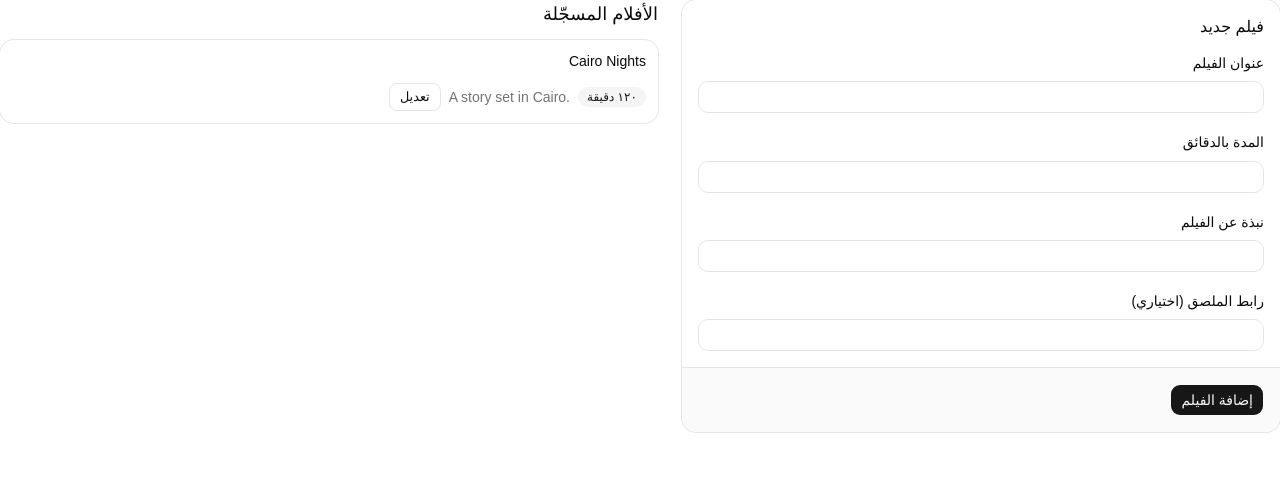
FilmAdmin › shows a server error and preserves the entered values
This screenshot has width=1280, height=504.
Type "New Film" into the field labelled "عنوان الفيلم" at (981, 97), box [698,81,1264,113]
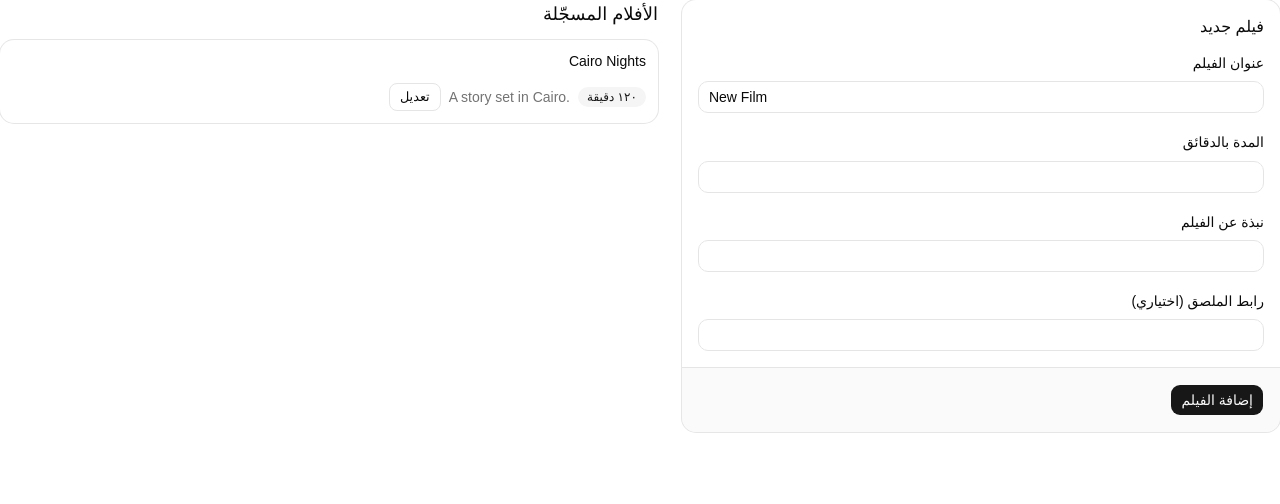
Type "95" into the number field labelled "المدة بالدقائق" at (981, 176), box [698,160,1264,192]
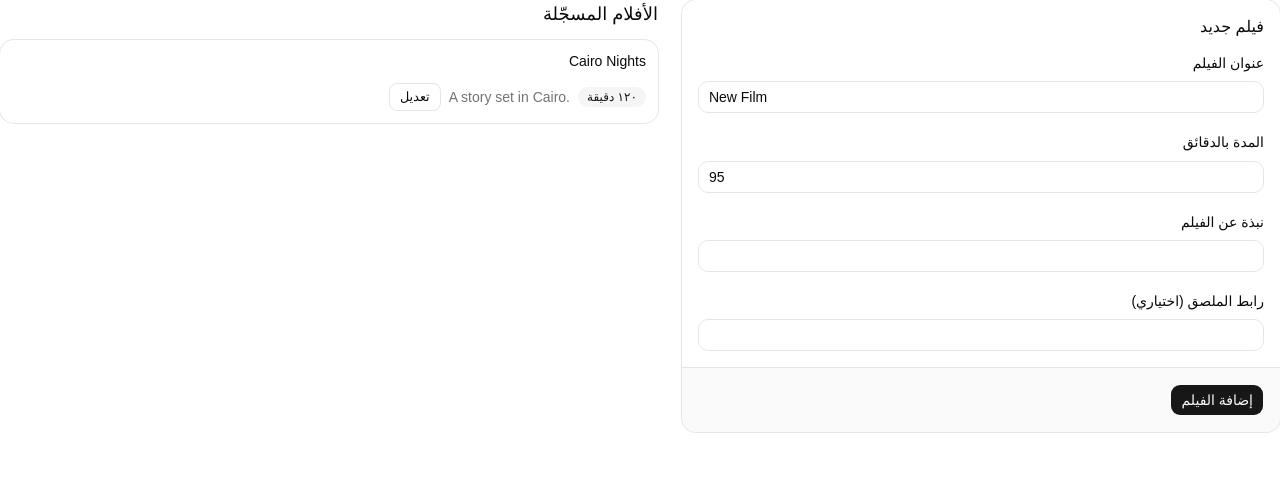
Type "Synopsis" into the field labelled "نبذة عن الفيلم" at (981, 256), box [698,240,1264,272]
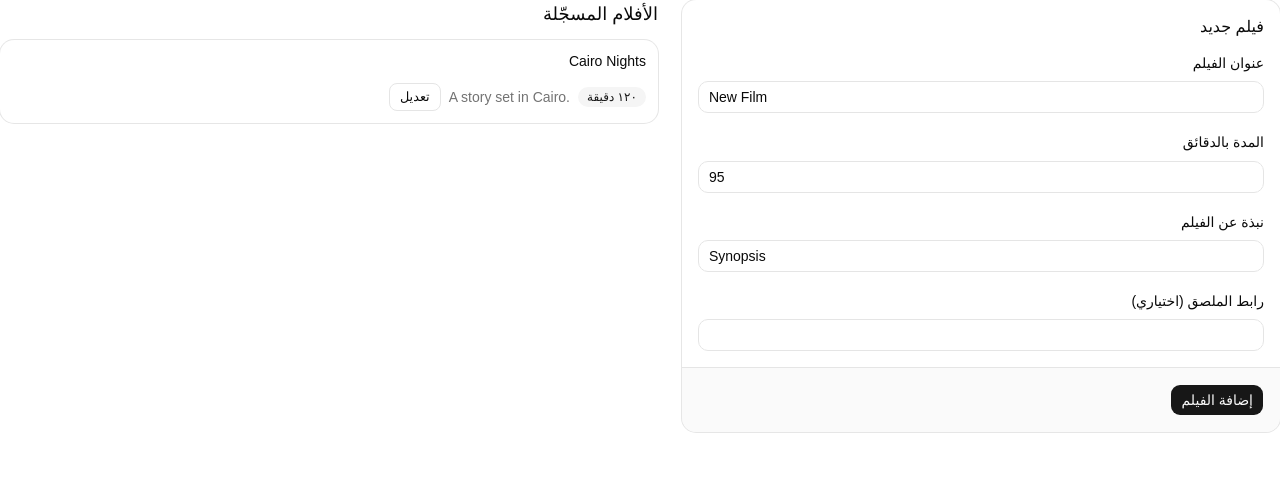
Click the button "إضافة الفيلم" at (1217, 400), box [1170,384,1264,416]
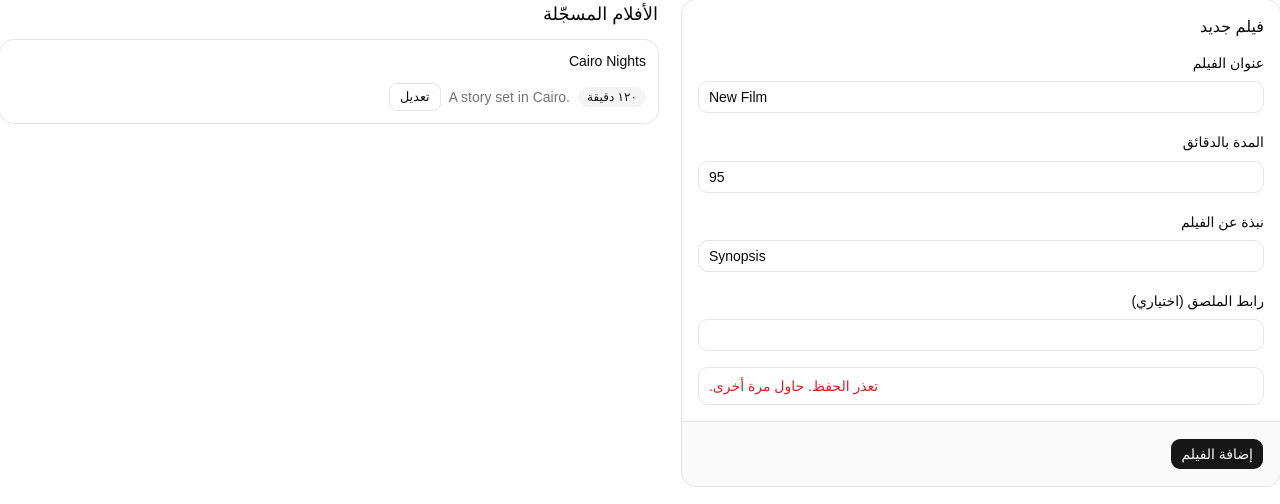
Check: the text "تعذر الحفظ. حاول مرة أخرى." is shown, box [709,378,878,394]
